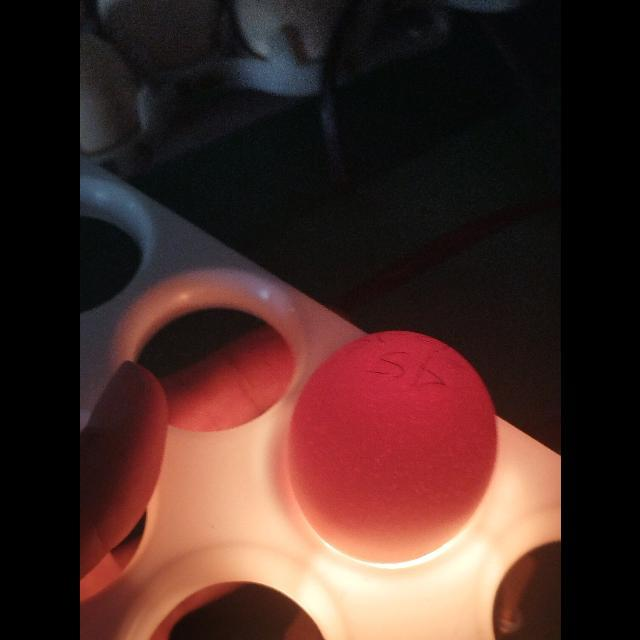Infertile: (286, 324, 500, 574)
